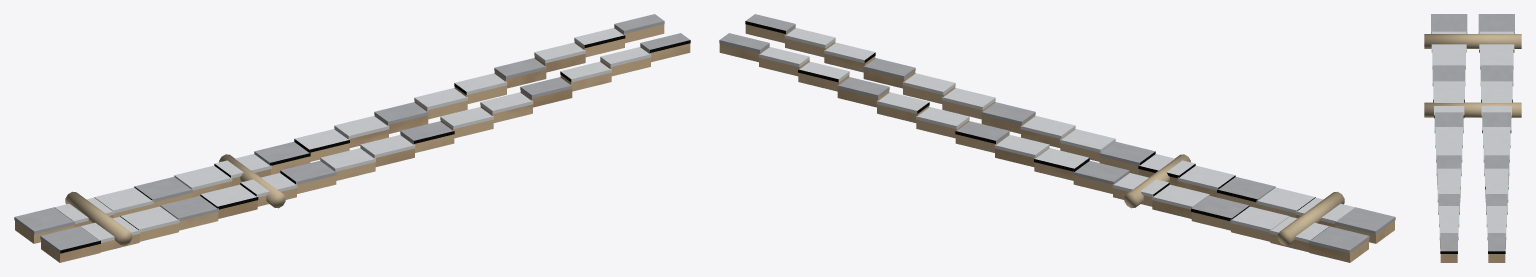
Rendered from FL_TapedRecurveLimbs.fbx.
3 renders of one model, left to right at view 1: azimuth 30°, elevation 25°; view 2: azimuth 150°, elevation 25°; view 3: azimuth 270°, elevation 25°, orthographic. The views are drawn at different scales.
Parts seen in each view (by area): view 1: FL_TapedRecurveLimbs; view 2: FL_TapedRecurveLimbs; view 3: FL_TapedRecurveLimbs.
Boxes of the visible parts, x1=… form: FL_TapedRecurveLimbs: x1=14, y1=14, x2=690, y2=262; FL_TapedRecurveLimbs: x1=719, y1=14, x2=1395, y2=262; FL_TapedRecurveLimbs: x1=1424, y1=14, x2=1521, y2=262.
Bounding box in the file's own units: 0.0518 × 0.00502 × 0.0075.
